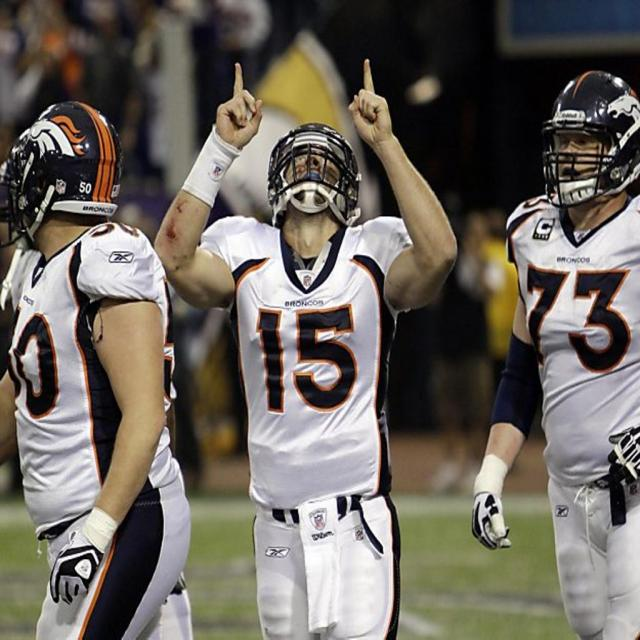nomask: (549, 100, 611, 210), (284, 133, 348, 220)
